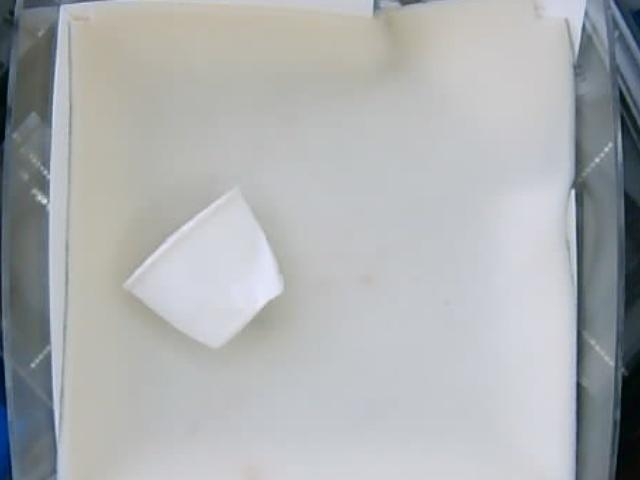Cup: (121, 182, 287, 347)
